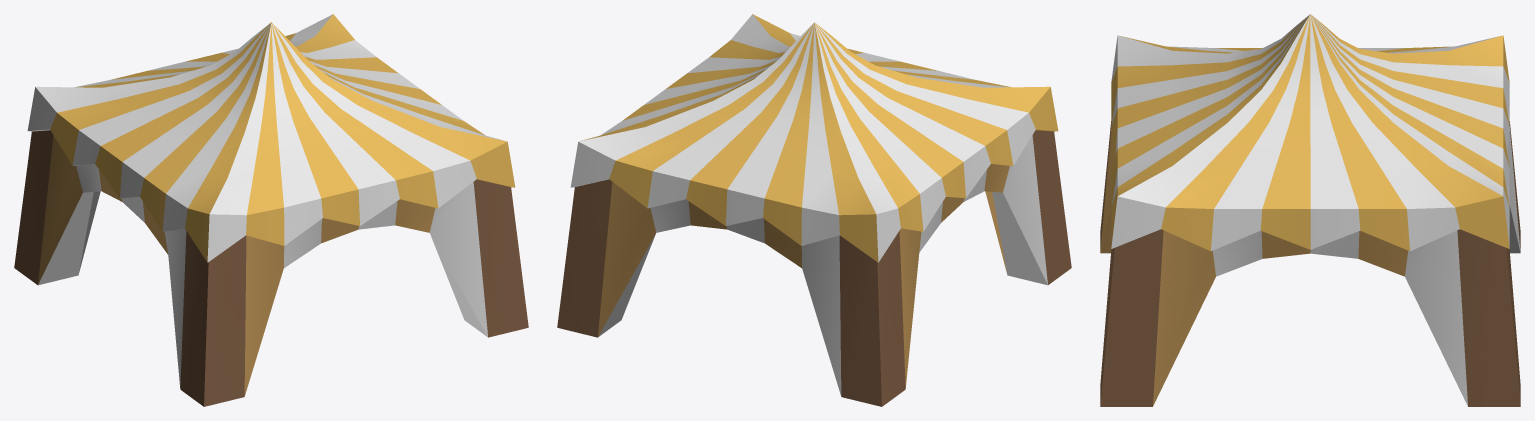
Rendered from DatingSimTent.fbx.
3 renders of one model, left to right at view 1: azimuth 30°, elevation 25°; view 2: azimuth 150°, elevation 25°; view 3: azimuth 270°, elevation 25°, orthographic. The views are drawn at different scales.
Visible parts, largest first — view 1: Tent; view 2: Tent; view 3: Tent.
Part boxes in pixels (x1,y1,x2,y2): Tent: (14,14,528,406); Tent: (557,14,1071,406); Tent: (1100,14,1520,406).
Size of the model in its own units: 178 by 144 by 180.
